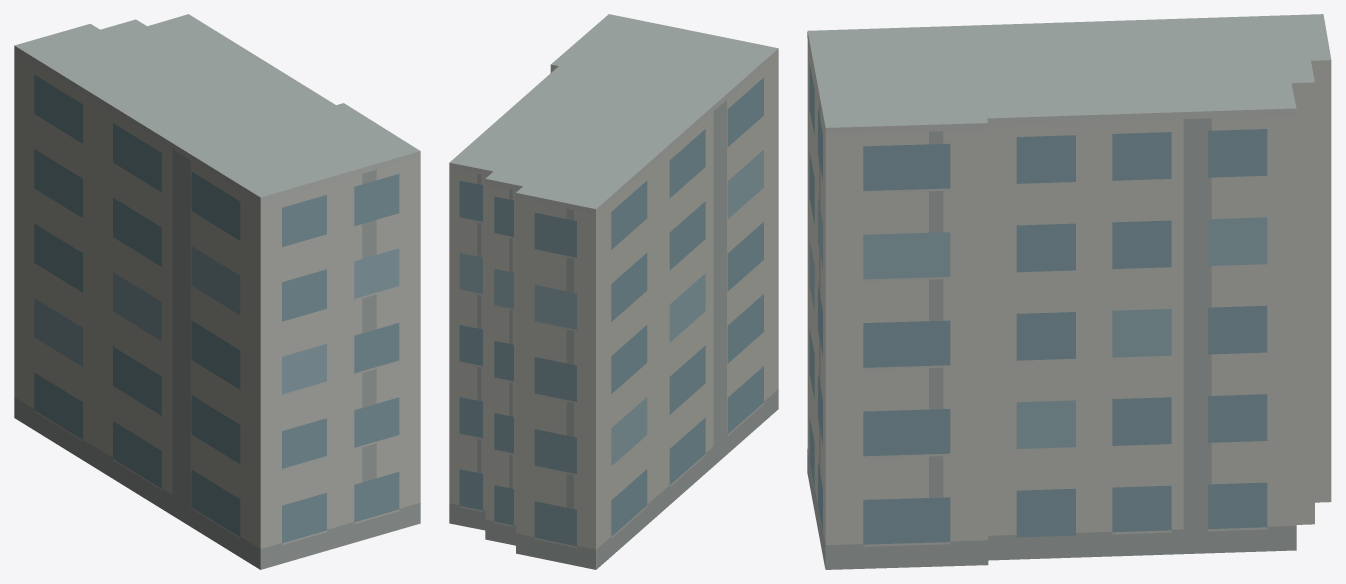
The model's file is survey-upis-32887774.glb.
The picture shows the model from 3 angles, left to right: view 1: azimuth 30°, elevation 25°; view 2: azimuth 150°, elevation 25°; view 3: azimuth 270°, elevation 25°; orthographic projection. The views are drawn at different scales.
Visible parts, largest first — view 1: survey-upis-32887774.tmp; view 2: survey-upis-32887774.tmp; view 3: survey-upis-32887774.tmp.
Part boxes in pixels (left/top/right/bottom): survey-upis-32887774.tmp: left=14, top=14, right=420, bottom=569; survey-upis-32887774.tmp: left=449, top=14, right=778, bottom=569; survey-upis-32887774.tmp: left=807, top=14, right=1331, bottom=569.
Size of the model in its own units: 8.52 by 15.4 by 16.56.
